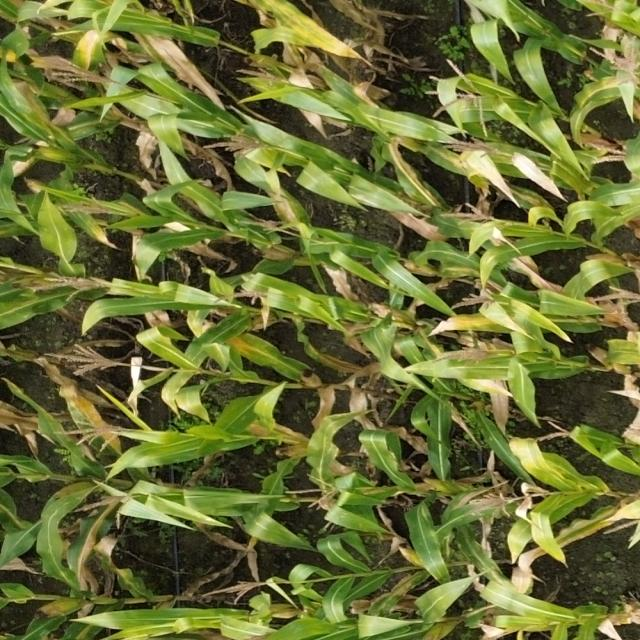gray-leaf-spot: (397, 508, 502, 592), (307, 161, 411, 222), (148, 91, 237, 158)
northern-leaf-blight: (200, 0, 355, 64), (42, 373, 133, 471), (501, 431, 608, 506), (229, 329, 342, 394), (73, 528, 162, 604), (406, 304, 528, 347), (57, 0, 126, 69)
